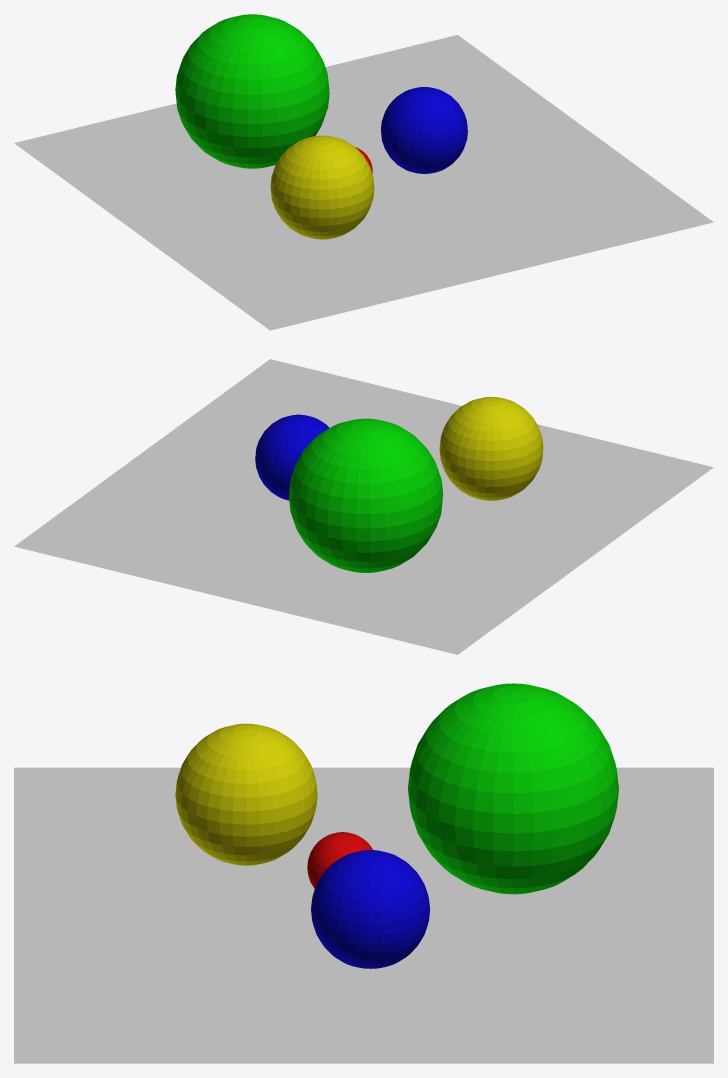
The model's file is spheres.obj.
The picture shows the model from 3 angles, top to bottom: view 1: azimuth 30°, elevation 25°; view 2: azimuth 150°, elevation 25°; view 3: azimuth 270°, elevation 25°; orthographic projection. The views are drawn at different scales.
Visible parts, largest first — view 1: Plane, Sphere.002, Sphere, Sphere.003; view 2: Plane, Sphere.002, Sphere, Sphere.003; view 3: Plane, Sphere.002, Sphere, Sphere.003, Sphere.001.
Part boxes in pixels (left/top/right/bottom): Plane: left=14, top=35, right=713, bottom=330; Sphere.002: left=175, top=14, right=329, bottom=168; Sphere: left=270, top=135, right=374, bottom=239; Sphere.003: left=381, top=87, right=467, bottom=173; Plane: left=14, top=359, right=713, bottom=654; Sphere.002: left=289, top=418, right=443, bottom=572; Sphere: left=439, top=396, right=543, bottom=500; Sphere.003: left=255, top=414, right=329, bottom=500; Plane: left=14, top=767, right=713, bottom=1063; Sphere.002: left=408, top=683, right=618, bottom=894; Sphere: left=175, top=723, right=317, bottom=865; Sphere.003: left=311, top=850, right=429, bottom=968; Sphere.001: left=307, top=832, right=372, bottom=888.
Bounding box in the file's own units: 9.84 × 2.97 × 9.84.
